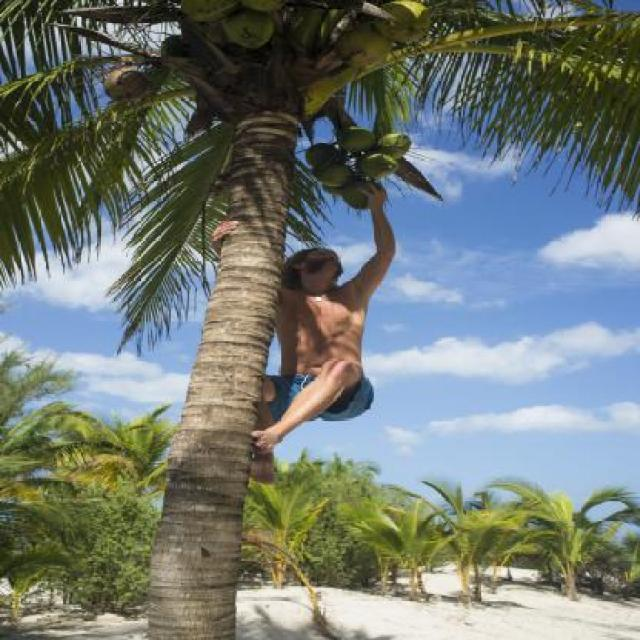Coconut: (300, 125, 412, 208), (182, 0, 292, 51), (330, 22, 392, 68), (371, 1, 437, 41), (104, 65, 154, 104), (154, 34, 200, 63)
